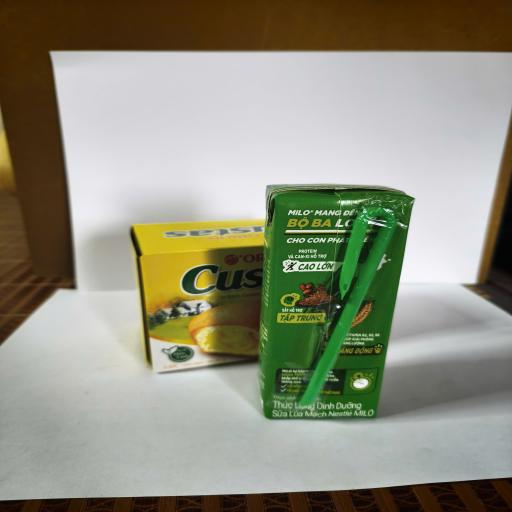custas: (130, 219, 267, 374)
milo: (258, 184, 415, 420)
